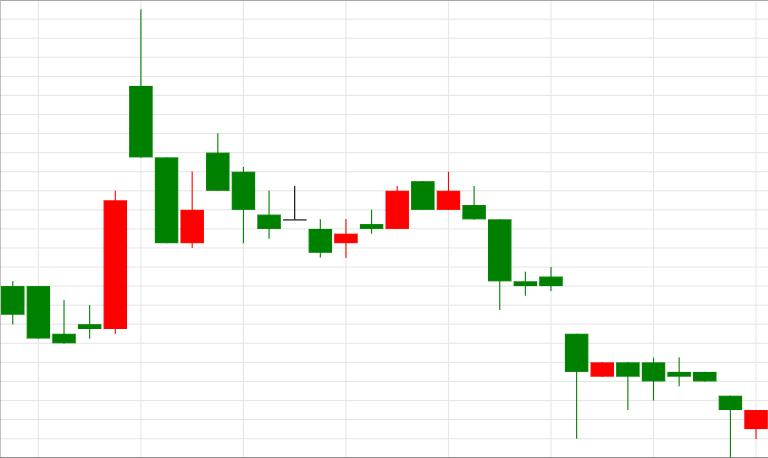hammer_rise: (411, 172, 588, 438)
